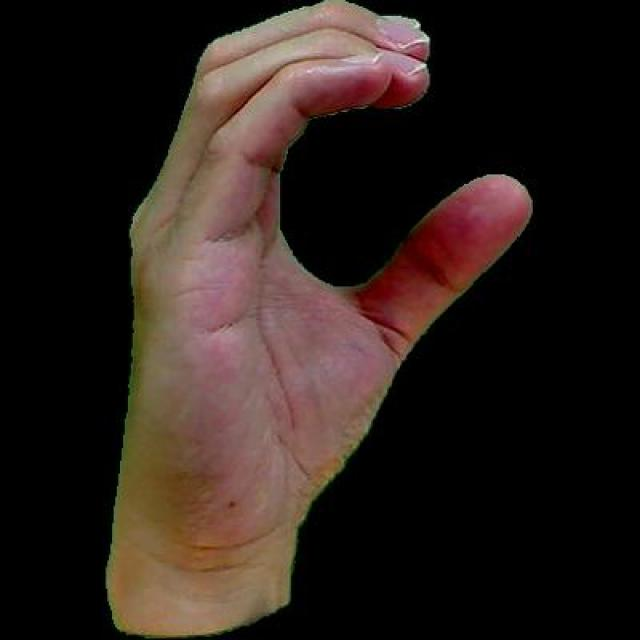c: (99, 0, 536, 637)
